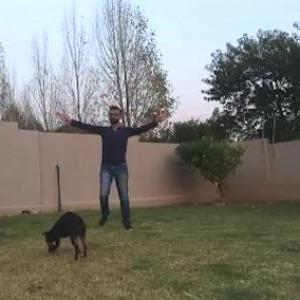takeoff: (47, 103, 165, 236)
